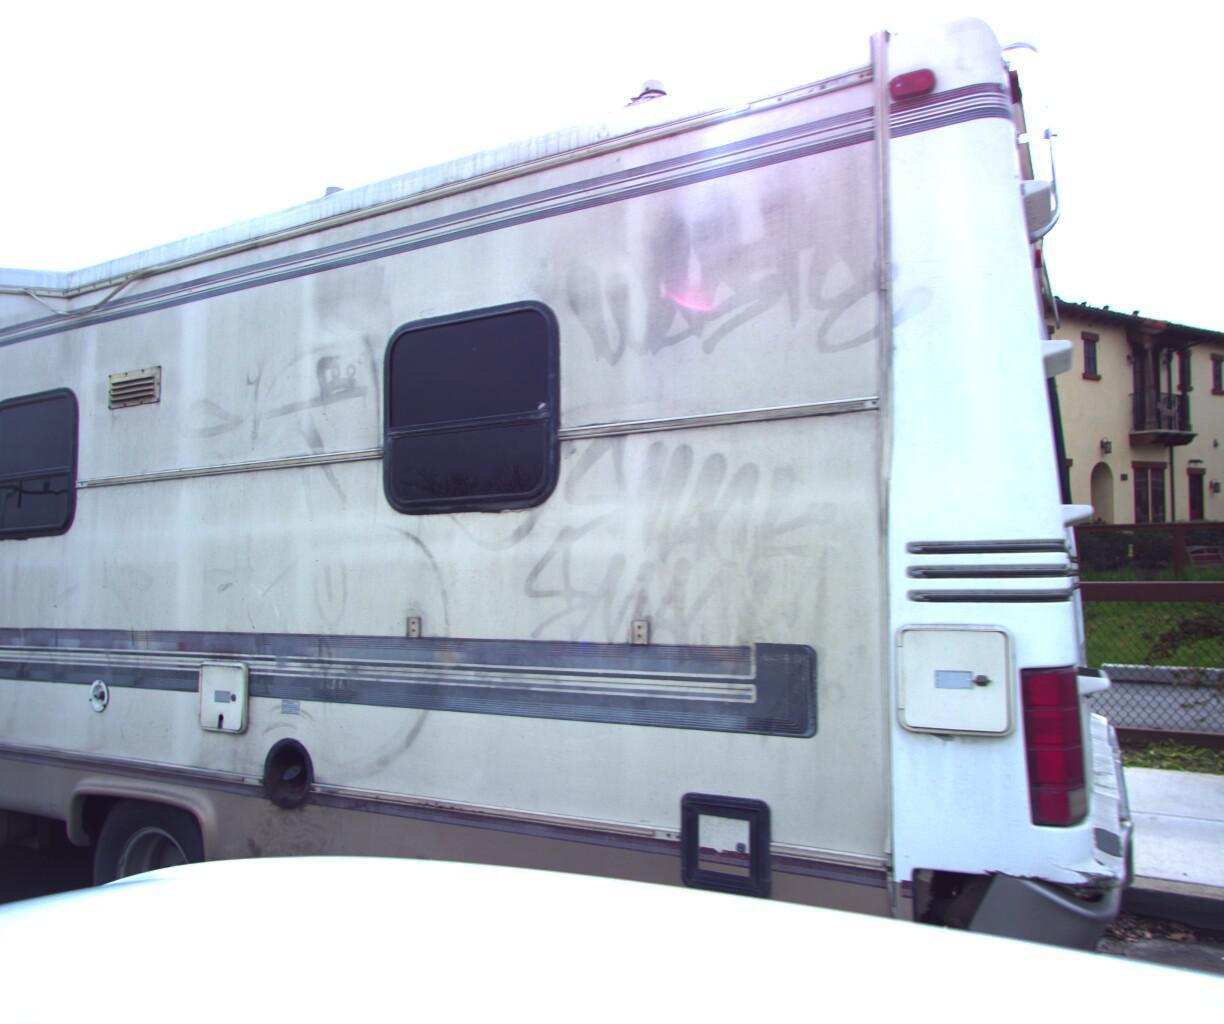other_vehicle: (0, 0, 1182, 1024)
